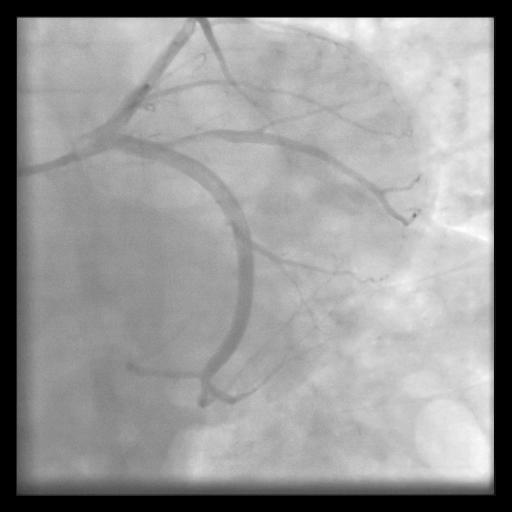Stenosis: (170, 130, 221, 143)
